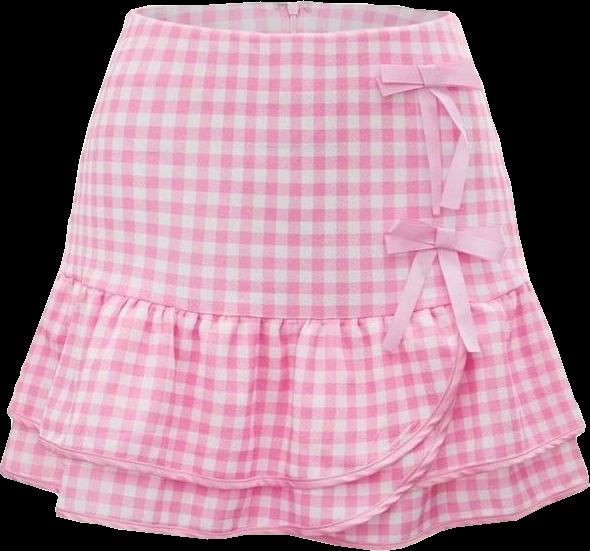Hemline: (6, 303, 468, 487), (0, 388, 459, 534), (285, 485, 589, 550), (414, 422, 587, 486)
Waistline: (56, 268, 531, 322), (130, 7, 453, 39)
